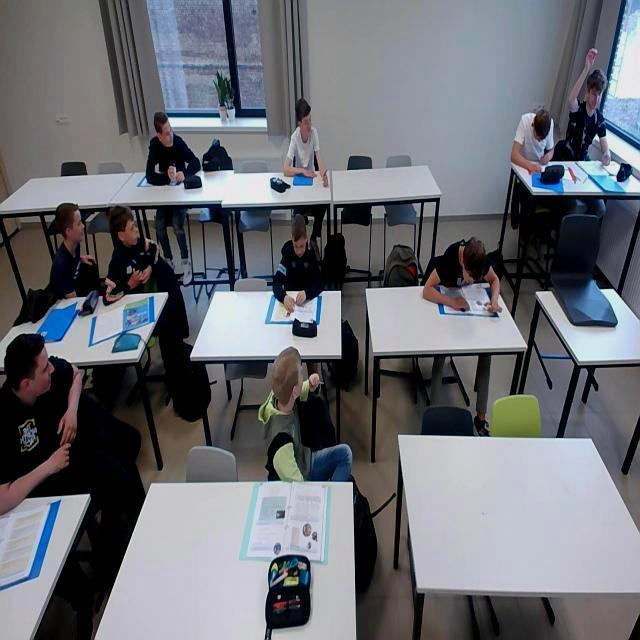Looking away: (140, 102, 182, 148), (284, 90, 316, 140)
Raising hand: (564, 46, 616, 164)
Reading-writing: (260, 212, 338, 322), (412, 219, 496, 321), (511, 100, 561, 174)
Turning around: (3, 334, 98, 481), (256, 339, 320, 474), (107, 202, 168, 306), (44, 197, 98, 298)
